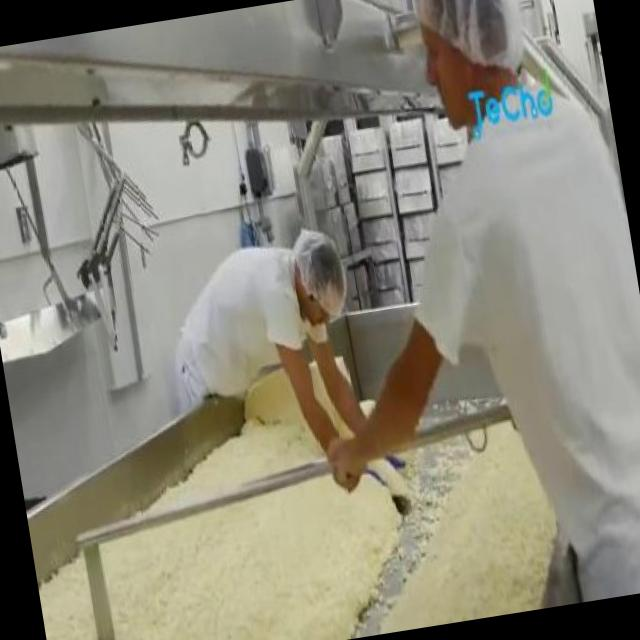hairnet: (409, 0, 528, 85), (295, 223, 341, 316)
